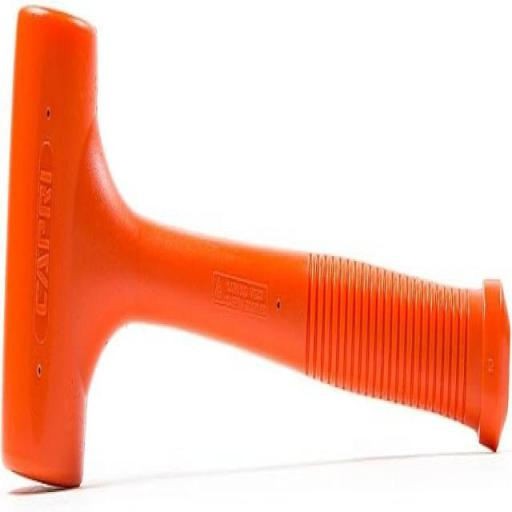mallet: (2, 8, 510, 485)
